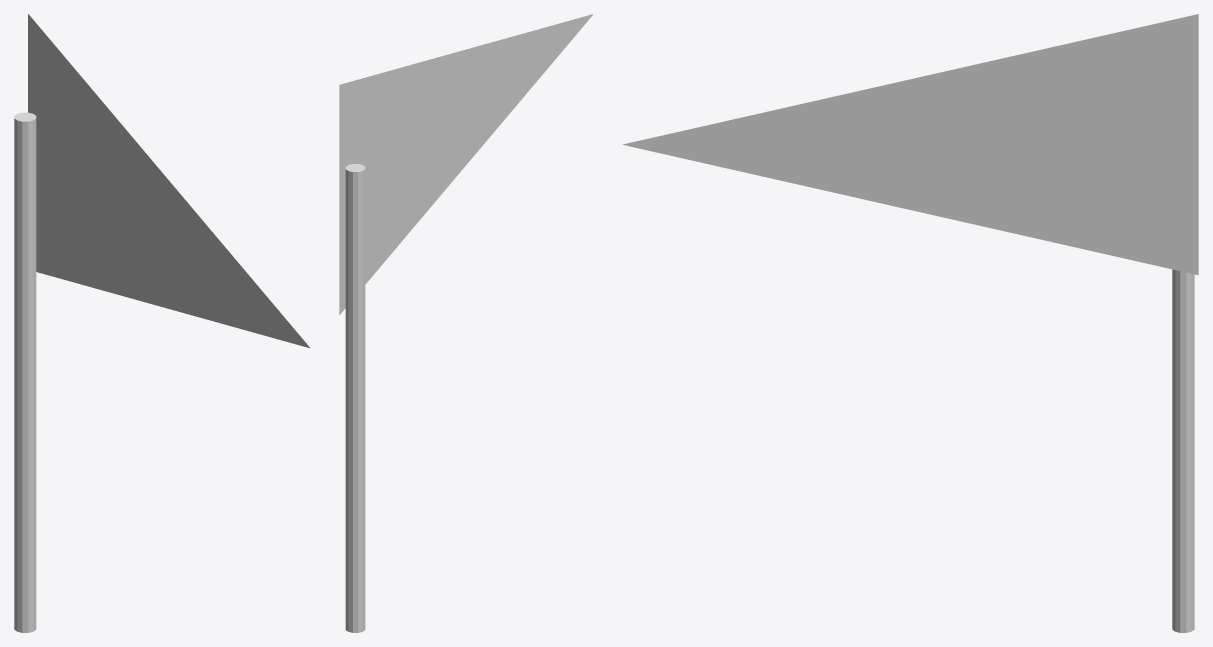
Rendered from flag_white.fbx.
3 views of the same model, side by side, from view 1: azimuth 30°, elevation 25°; view 2: azimuth 150°, elevation 25°; view 3: azimuth 270°, elevation 25° (orthographic). The views are drawn at different scales.
Visible parts, largest first — view 1: Plane.005; view 2: Plane.005; view 3: Plane.005.
Boxes of the visible parts, x1,y1,x2,y2 form: Plane.005: (14,14,309,632); Plane.005: (339,14,593,632); Plane.005: (622,14,1198,632).
Size of the model in its own units: 8.24 by 237 by 200.
